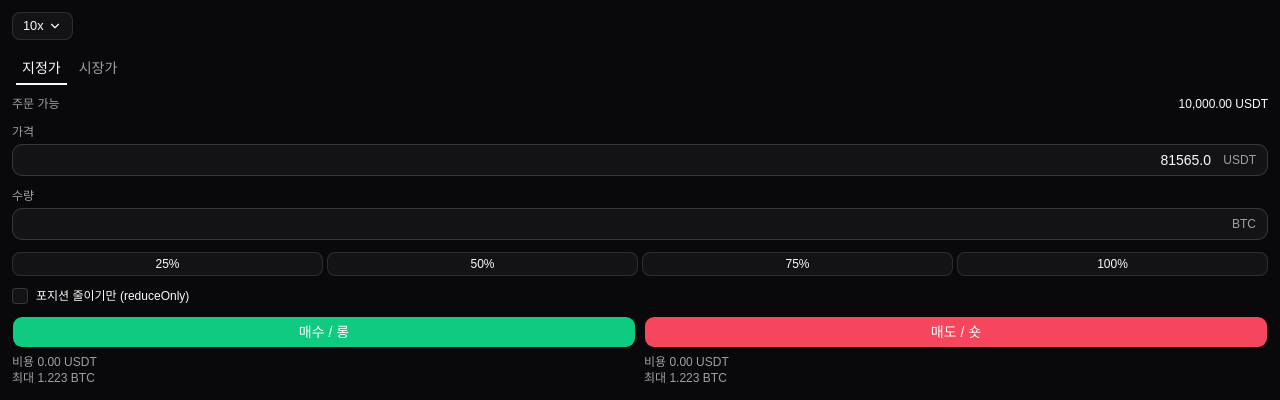
OrderForm › 비율 버튼은 늘리는 쪽 최대 수량의 비율을 수량에 넣는다
The image size is (1280, 400).
Expected: the text "10,000.00 USDT" is shown, [1179, 96, 1268, 112]
Expected: the field showing "81565.0" is shown, [12, 144, 1268, 176]
Click the button "25%" at (168,264), box [12, 252, 323, 276]
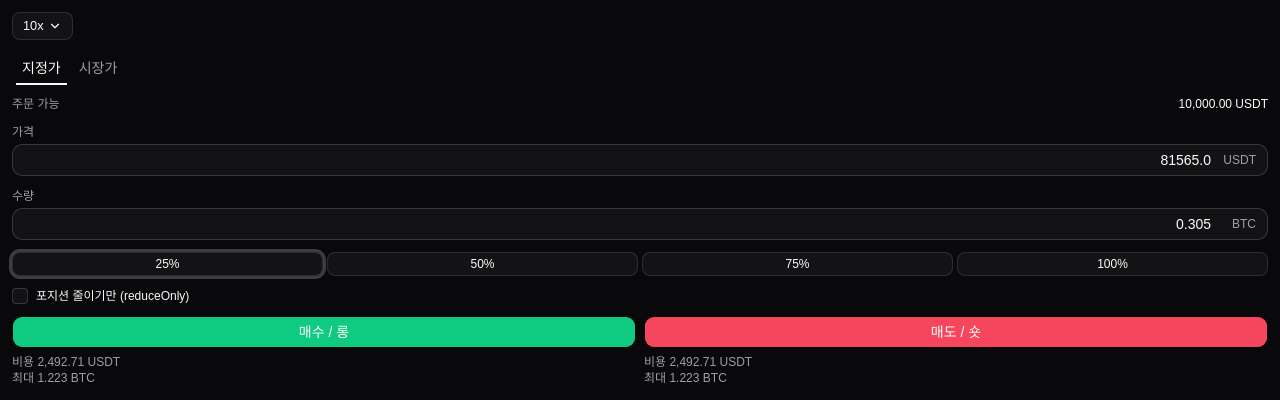
Now the field labelled "수량" holds "0.305", box [12, 208, 1268, 240]
